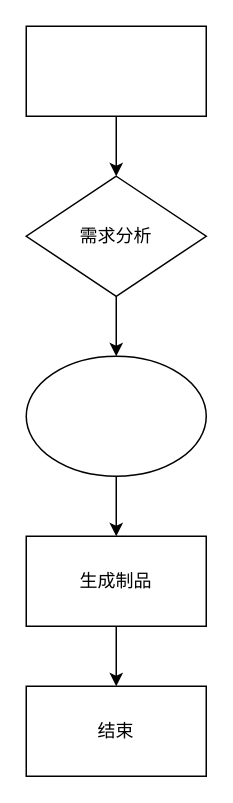
This 233x803 diagram has some shape labels left out. The centre of each missing label's shape, as x and y in pixels:
"开始" goes at point (115, 70).
"选择工具" goes at point (115, 415).
